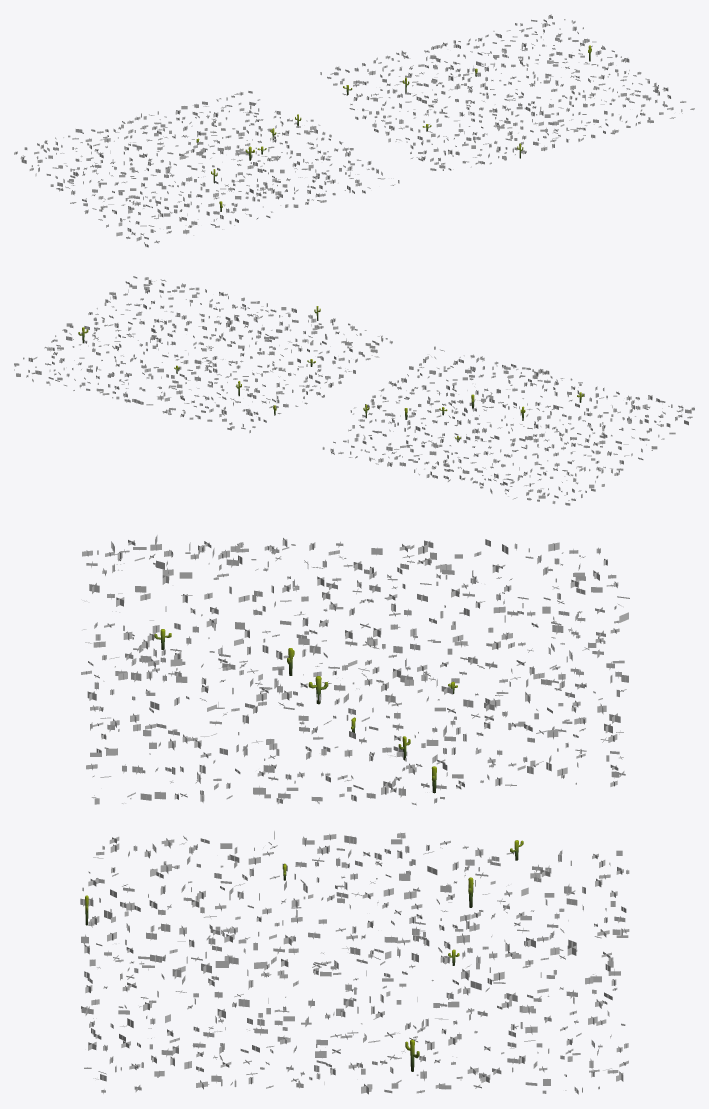
File: FloraDesert2.fbx
3 renders of one model, top to bottom at view 1: azimuth 30°, elevation 25°; view 2: azimuth 150°, elevation 25°; view 3: azimuth 270°, elevation 25°, orthographic. The views are drawn at different scales.
Parts seen in each view (by area): view 1: Node.002; view 2: Node.002; view 3: Node.002.
Boxes of the visible parts, x1=… form: Node.002: x1=14, y1=14, x2=694, y2=247; Node.002: x1=14, y1=276, x2=694, y2=505; Node.002: x1=80, y1=535, x2=629, y2=1094.
Bounding box in the file's own units: 19711 × 692 × 8319.
